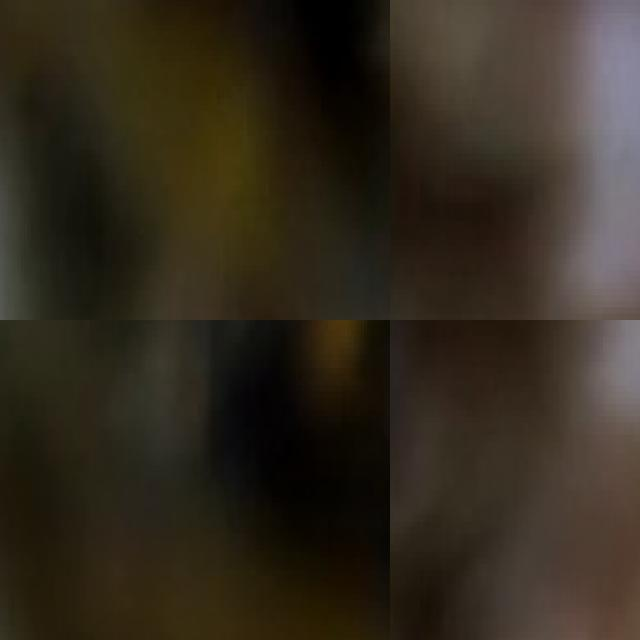fish: (0, 0, 390, 320), (0, 320, 390, 640)
